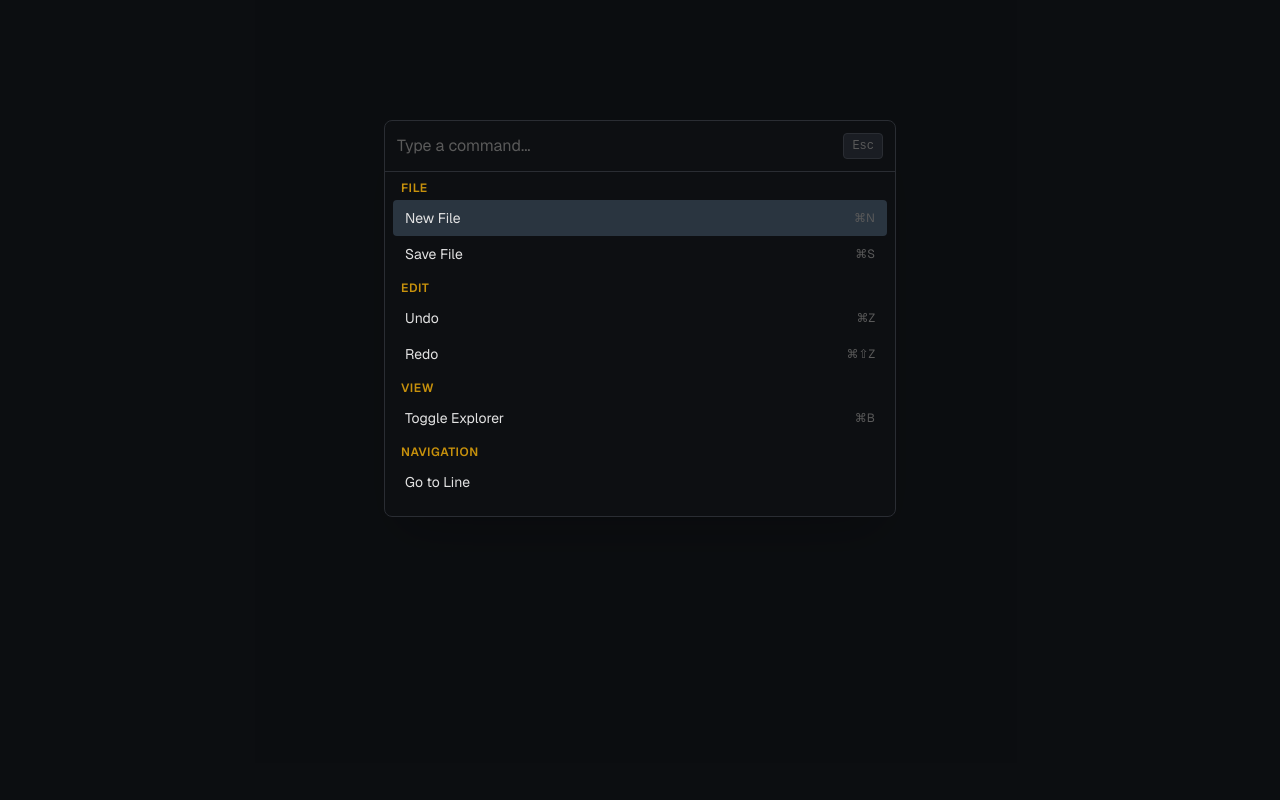
Scenario: CommandPalette › Fuzzy Search Filtering › should filter commands by exact match
This screenshot has width=1280, height=800.
Step 1. Type "Save" into the field with placeholder "Type a command..." → point(620, 146), box x1=397 y1=134 x2=843 y2=158
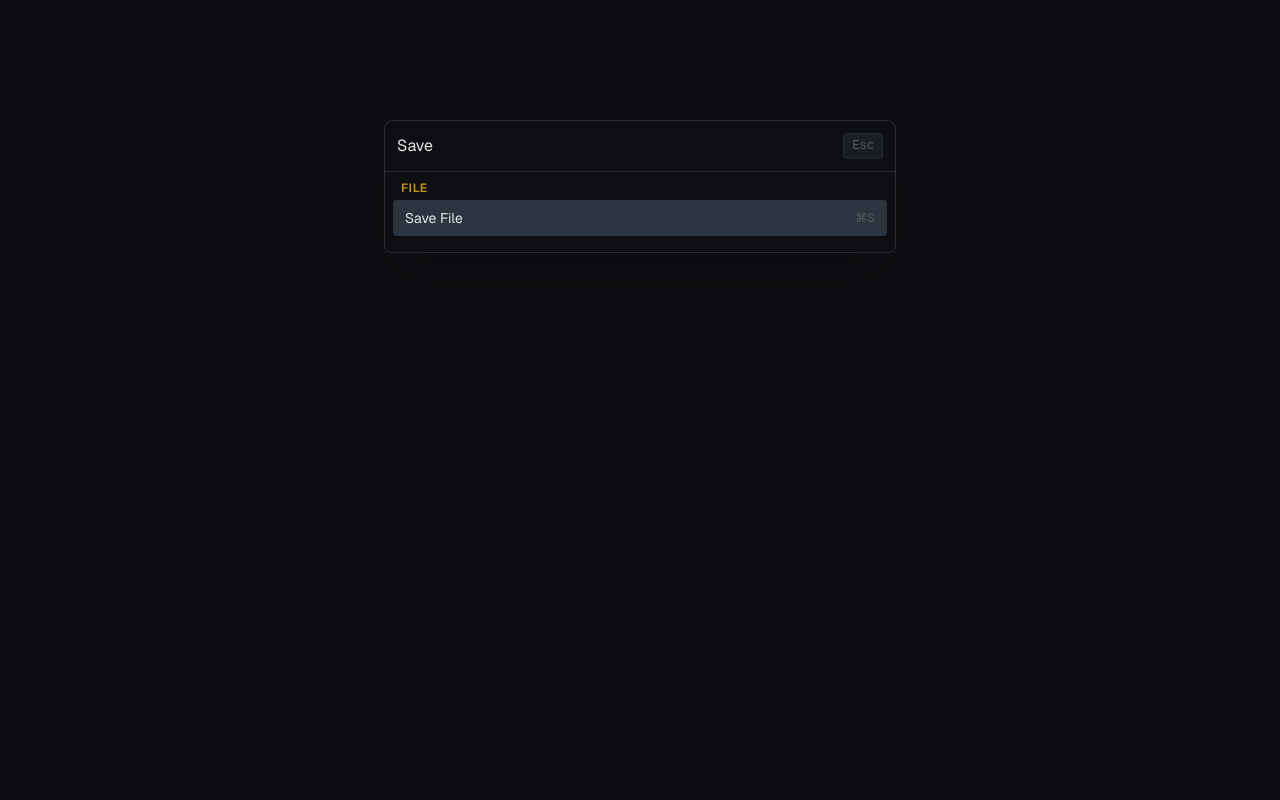
Expected: the text "Save File" is shown, x1=405 y1=208 x2=463 y2=228
Expected: the button "New File" is gone
Expected: the button "Undo" is gone
